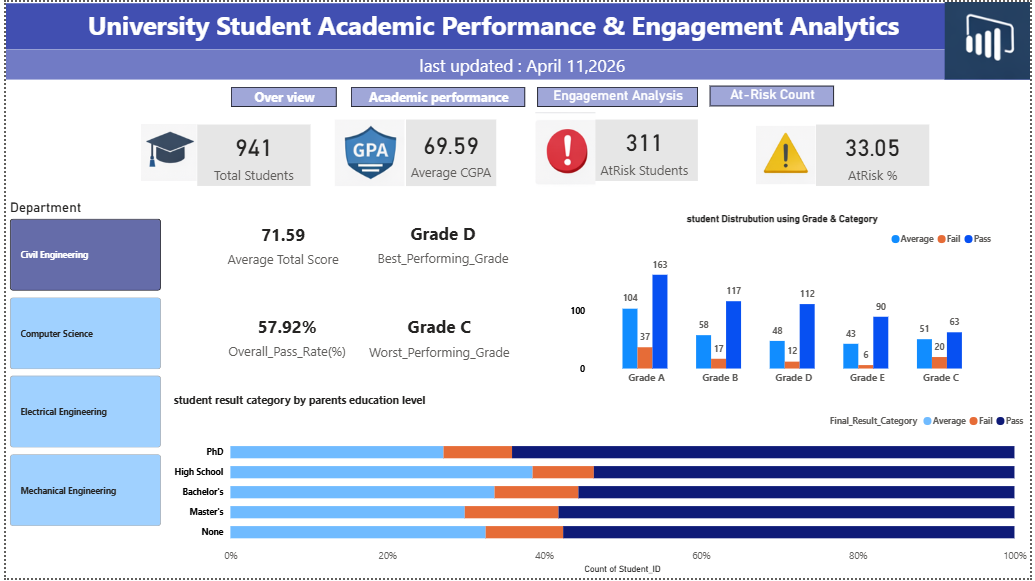

The page's visual inventory and layout, read from the dashboard file:
{"tool":"powerbi","page":{"name":"Main page","canvas":[1280,720],"ordinal":0},"visuals":[{"type":"textbox","box":[0,1.2,1280.3,57.5],"z":0},{"type":"textbox","box":[0,58.7,1280.3,37.9],"z":1000},{"type":"image","box":[1172.7,0,107.6,96.6],"z":2000},{"type":"pageNavigator","title":"Over view","box":[281.3,106.4,132.1,24.5],"z":3000},{"type":"pageNavigator","title":"Academic performance","box":[431.7,106.4,217.7,24.5],"z":4000},{"type":"pageNavigator","title":"Engagement Analysis","box":[664,106.4,200.5,24.5],"z":5000},{"type":"pageNavigator","title":"At-Risk Count","box":[880.4,105.2,155.3,25.7],"z":6000},{"type":"card","fields":{"Values":["StudentData.Total Students"]},"box":[238.5,152.9,141.8,77],"z":7000},{"type":"card","fields":{"Values":["StudentData.Average CGPA"]},"box":[508.7,146.7,112.5,83.2],"z":8000},{"type":"card","fields":{"Values":["StudentData.AtRisk Students"]},"box":[731.3,146.7,133.3,77],"z":9000},{"type":"card","fields":{"Values":["StudentData.AtRisk %"]},"box":[1012.5,152.9,141.8,77],"z":10000},{"type":"image","box":[168.8,145.5,69.7,85.6],"z":11000},{"type":"image","box":[418.2,145.5,90.5,83.2],"z":12000},{"type":"image","box":[634.7,138.2,129.6,92.9],"z":13000},{"type":"image","box":[937.9,146.7,74.6,89.3],"z":14000},{"type":"card","fields":{"Values":["StudentData.Average Total Score"]},"box":[261.7,248.2,171.2,108.8],"z":15000},{"type":"card","fields":{"Values":["StudentData.Best_Performing_Grade"]},"box":[452.4,248.2,196.9,111.3],"z":16000},{"type":"card","fields":{"Values":["StudentData.Worst_Performing_Grade"]},"box":[457.3,376.6,192,97.8],"z":17000},{"type":"card","fields":{"Values":["StudentData.Overall Pass Rate %"]},"box":[264.1,376.6,168.8,97.8],"z":18000},{"type":"clusteredColumnChart","title":"student  Distrubution using Grade & Category","fields":{"Category":["StudentData.Grade"],"Y":["CountNonNull(StudentData.Student_ID)"],"Series":["StudentData.Final_Result_Category"]},"box":[699.5,265.4,540.5,223.8],"z":19000},{"type":"hundredPercentStackedBarChart","title":"student result category by parents education level","fields":{"Category":["StudentData.Parent_Education_Level"],"Y":["CountNonNull(StudentData.Student_ID)"],"Series":["StudentData.Final_Result_Category"]},"box":[204.2,501.4,1076.1,218.9],"z":20000},{"type":"advancedSlicerVisual","fields":{"Values":["StudentData.Department"]},"box":[0,247,199.3,417],"z":21000}]}

Visuals, with their boxes in screenshot pixels (x1, y1, x2, y2), scaled from the page's 1280x720 canvas onto the 1035x581 screenshot:
textbox: bbox=(0, 1, 1034, 47)
textbox: bbox=(0, 47, 1034, 78)
image: bbox=(948, 0, 1034, 78)
"Over view" pageNavigator: bbox=(227, 86, 334, 106)
"Academic performance" pageNavigator: bbox=(349, 86, 525, 106)
"Engagement Analysis" pageNavigator: bbox=(537, 86, 699, 106)
"At-Risk Count" pageNavigator: bbox=(712, 85, 837, 106)
card - StudentData.Total Students: bbox=(193, 123, 308, 186)
card - StudentData.Average CGPA: bbox=(411, 118, 502, 186)
card - StudentData.AtRisk Students: bbox=(591, 118, 699, 181)
card - StudentData.AtRisk %: bbox=(819, 123, 933, 186)
image: bbox=(136, 117, 193, 186)
image: bbox=(338, 117, 411, 185)
image: bbox=(513, 112, 618, 186)
image: bbox=(758, 118, 819, 190)
card - StudentData.Average Total Score: bbox=(212, 200, 350, 288)
card - StudentData.Best_Performing_Grade: bbox=(366, 200, 525, 290)
card - StudentData.Worst_Performing_Grade: bbox=(370, 304, 525, 383)
card - StudentData.Overall Pass Rate %: bbox=(214, 304, 350, 383)
"student  Distrubution using Grade & Category" clusteredColumnChart: bbox=(566, 214, 1003, 395)
"student result category by parents education level" hundredPercentStackedBarChart: bbox=(165, 405, 1034, 580)
advancedSlicerVisual - StudentData.Department: bbox=(0, 199, 161, 536)
